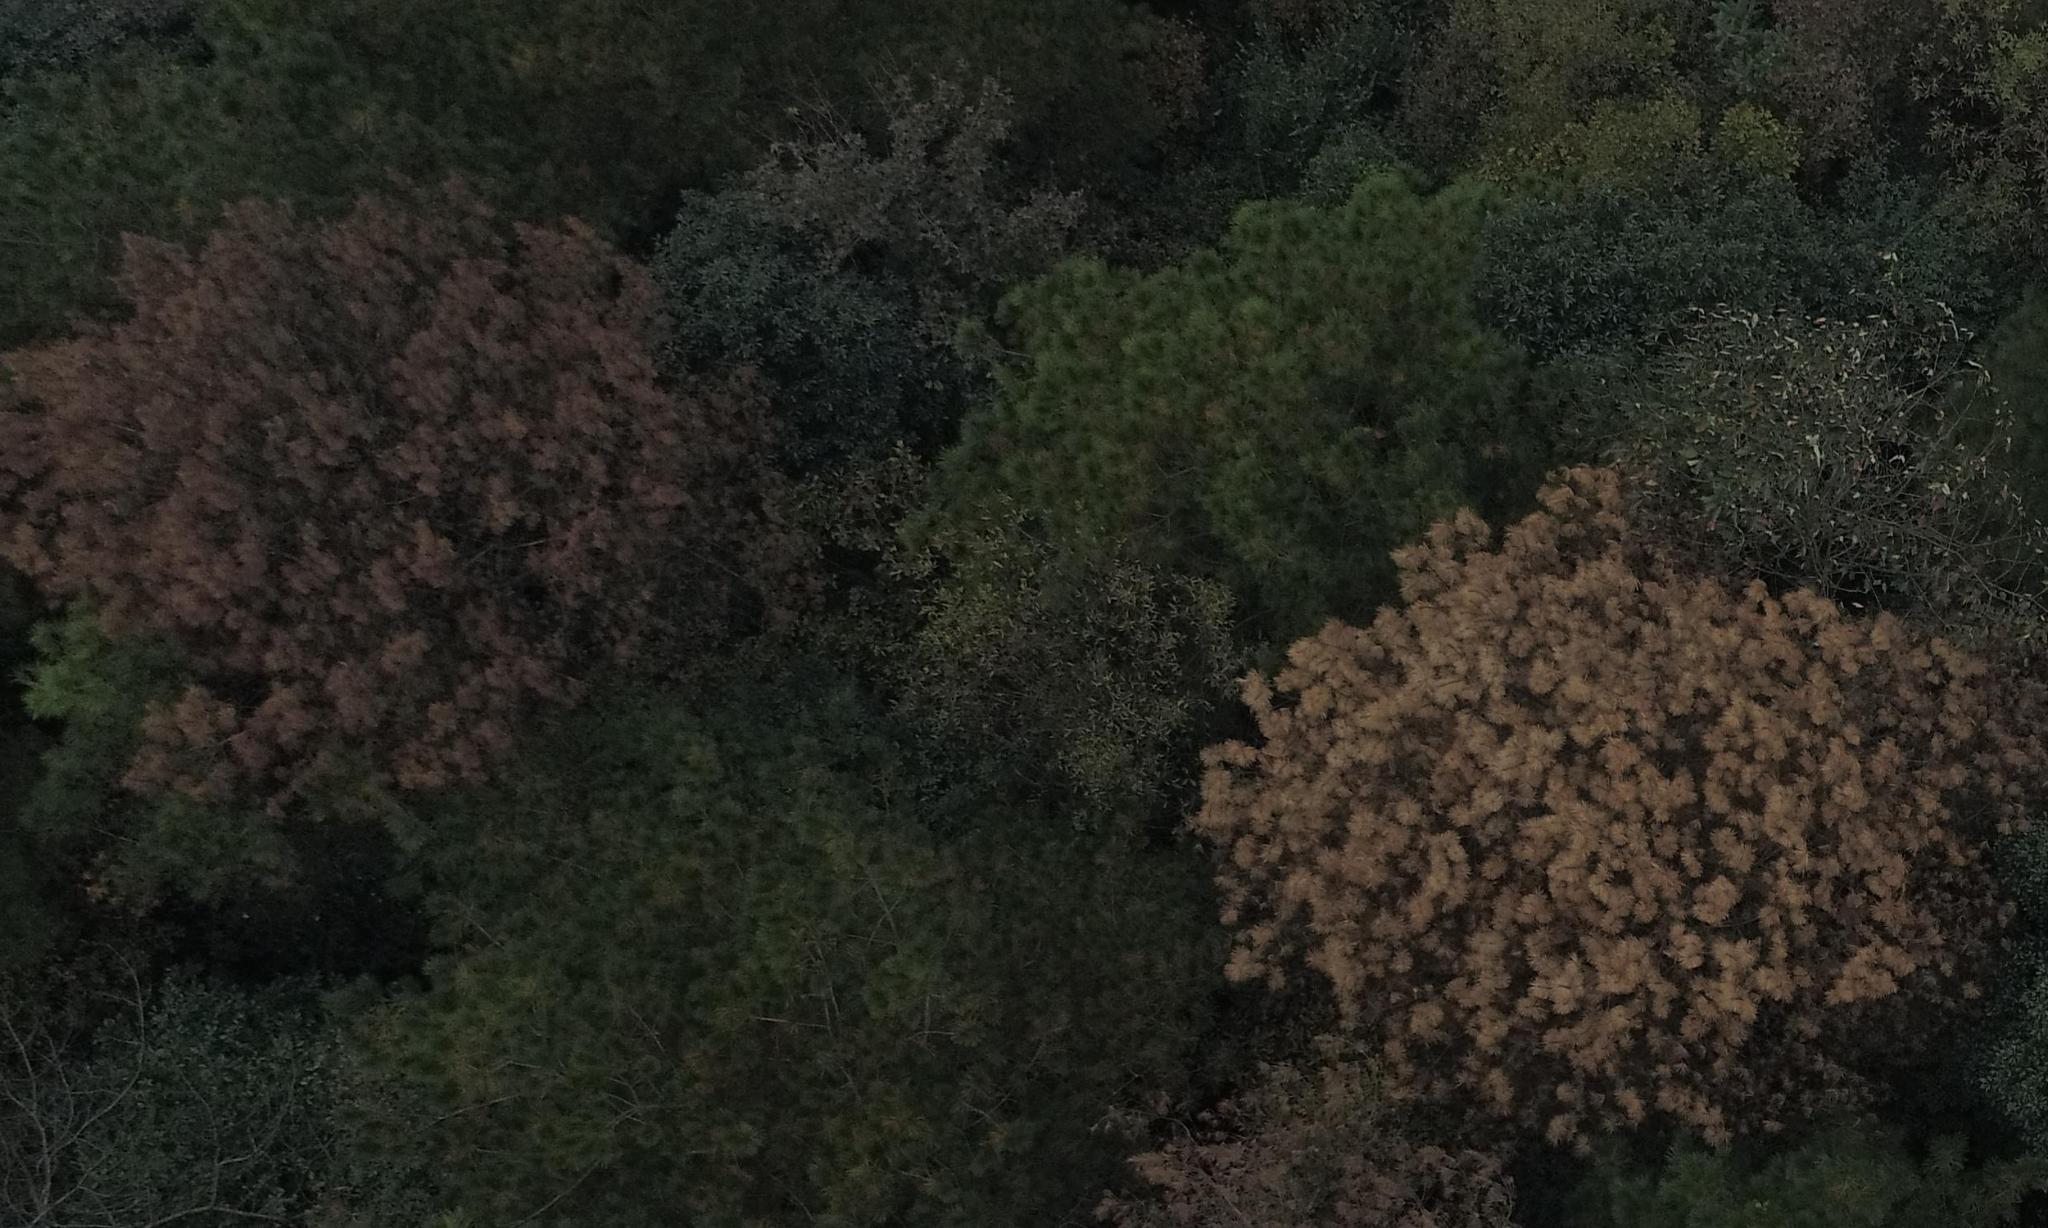heavy: (1190, 456, 1994, 1146), (28, 168, 738, 776)
